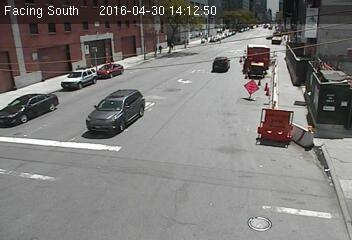neg: (292, 127, 327, 173), (11, 105, 45, 151), (176, 47, 204, 84), (257, 159, 285, 196), (60, 170, 88, 206), (218, 84, 244, 118), (222, 140, 248, 174), (100, 115, 123, 144), (171, 171, 193, 200), (269, 111, 288, 137), (263, 62, 280, 85), (149, 121, 165, 143)
pos: (155, 42, 166, 56)
